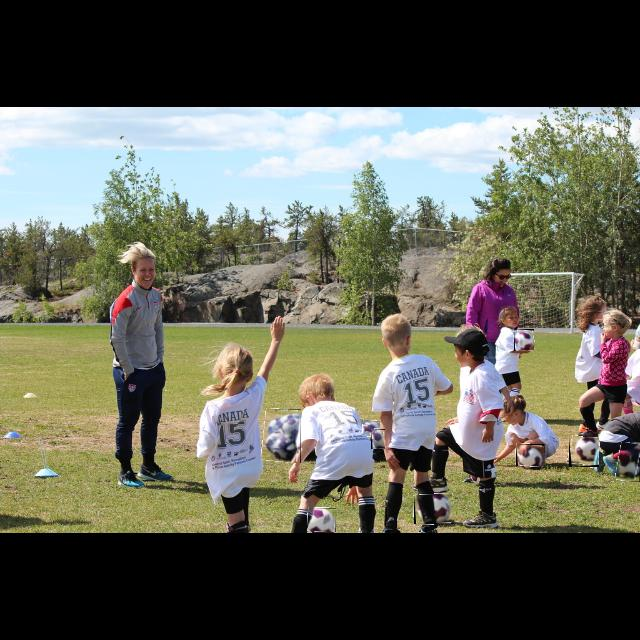Football: (263, 409, 301, 463), (414, 494, 454, 524), (616, 442, 640, 482), (569, 437, 599, 467), (308, 508, 336, 532), (516, 444, 544, 466), (514, 329, 534, 351), (363, 421, 381, 437), (371, 429, 385, 449)
